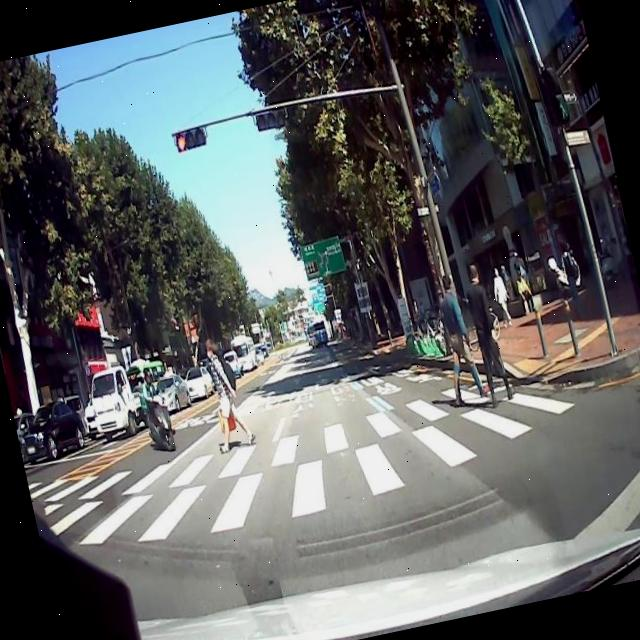crosswalk: (27, 375, 580, 544)
